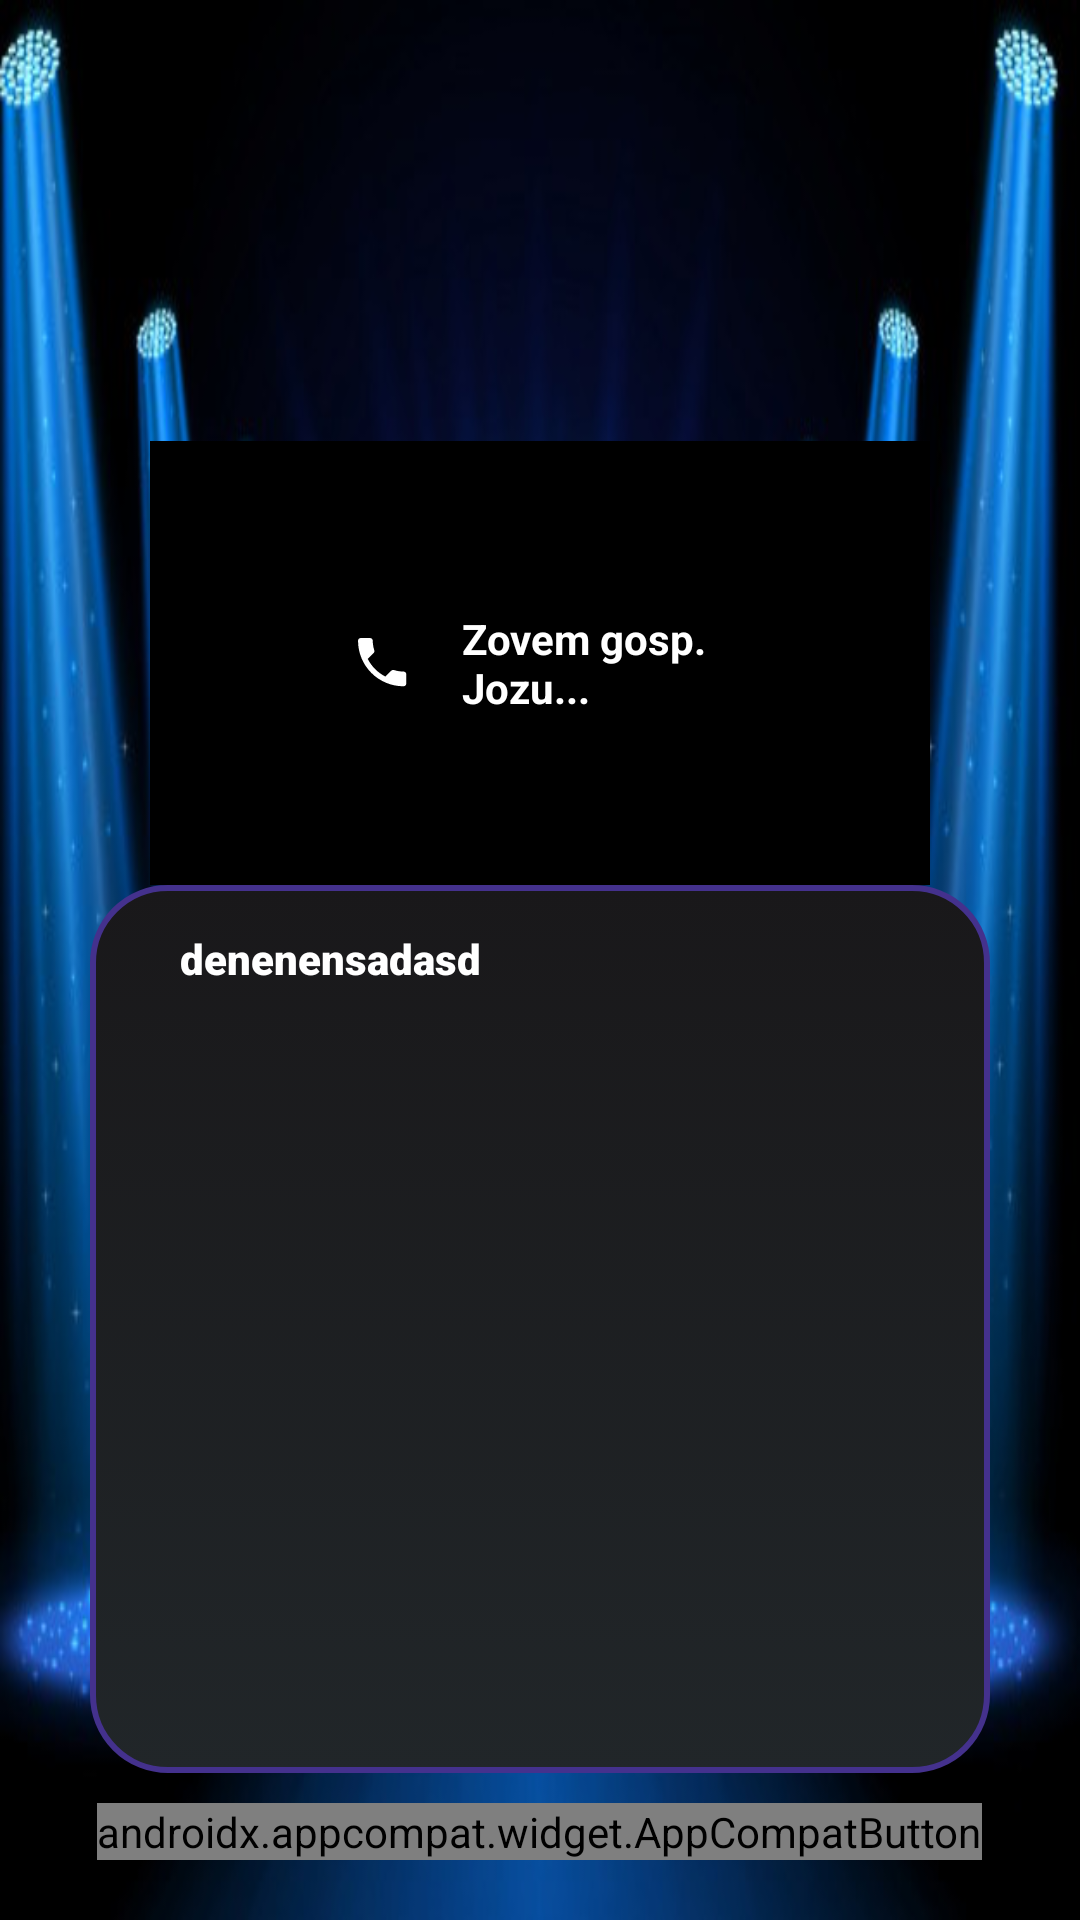

Screen size 1080×1920. Icon name, then its box in pixels as (x1, y1, x2, y2):
phone: (358, 638, 407, 687)
